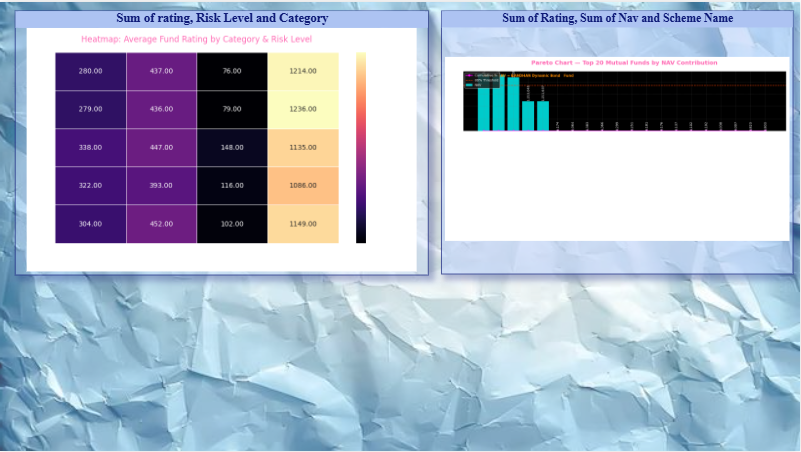

What the dashboard file says about the page in this screenshot:
{"tool":"powerbi","page":{"name":"Python Connectivity","canvas":[1280,720],"ordinal":3},"visuals":[{"type":"pythonVisual","title":"Sum of rating, Risk Level and Category","fields":{"Values":["Sum(Fact_MutualFund.rating)","Fact_MutualFund.risk_level","Fact_MutualFund.category"]},"box":[23.3,13.3,661.7,423.3],"z":0},{"type":"pythonVisual","title":"Sum of Rating, Sum of Nav and Scheme Name","fields":{"Values":["Sum(Fact_MutualFund.rating)","Sum(Fact_MutualFund.nav)","Fact_MutualFund.scheme_name"]},"box":[705,13.1,563.1,421.9],"z":1000}]}

Visuals, with their boxes in screenshot pixels (x1, y1, x2, y2), scaled from the page's 1280x720 canvas onto the 801x452 screenshot:
"Sum of rating, Risk Level and Category" pythonVisual: bbox(15, 8, 429, 274)
"Sum of Rating, Sum of Nav and Scheme Name" pythonVisual: bbox(441, 8, 794, 273)
